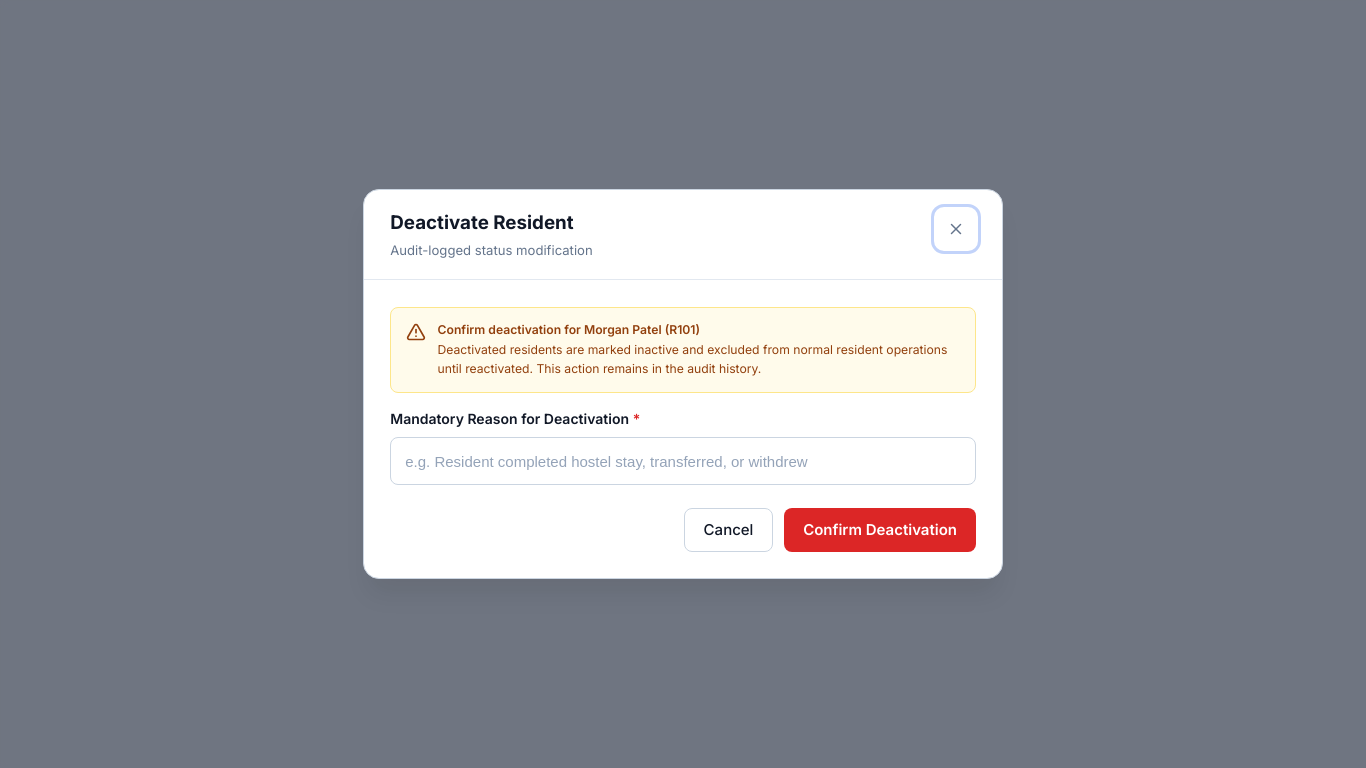
Resident Operations & Modals › Deactivate Resident Workflow › requires a mandatory reason before deactivation submission
The image size is (1366, 768).
What coordinates should you click on to do the following:
click the button "Confirm Deactivation"
I would click on:
 (880, 530)
Its box is [784,508,976,552].
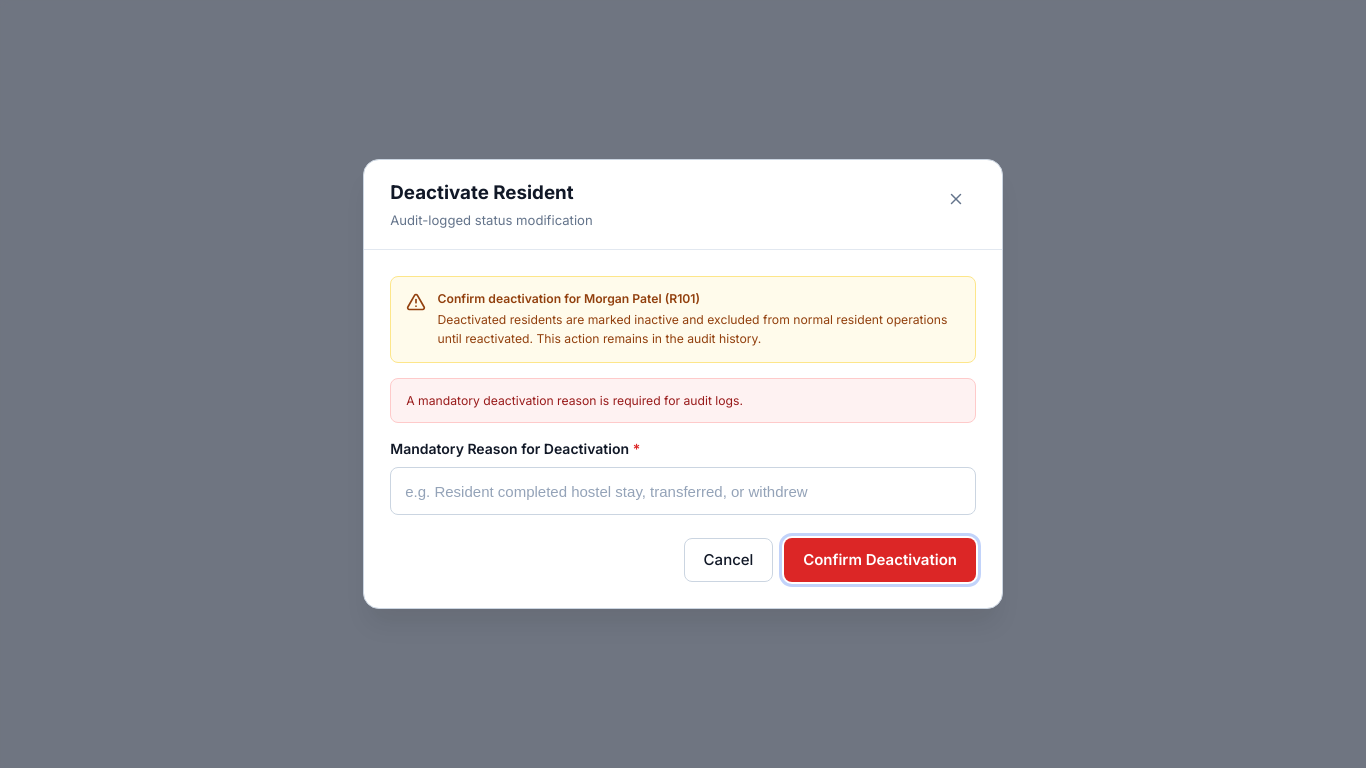
Expected: the text "A mandatory deactivation reason is required for audit logs." is shown, [406,392,743,409]
